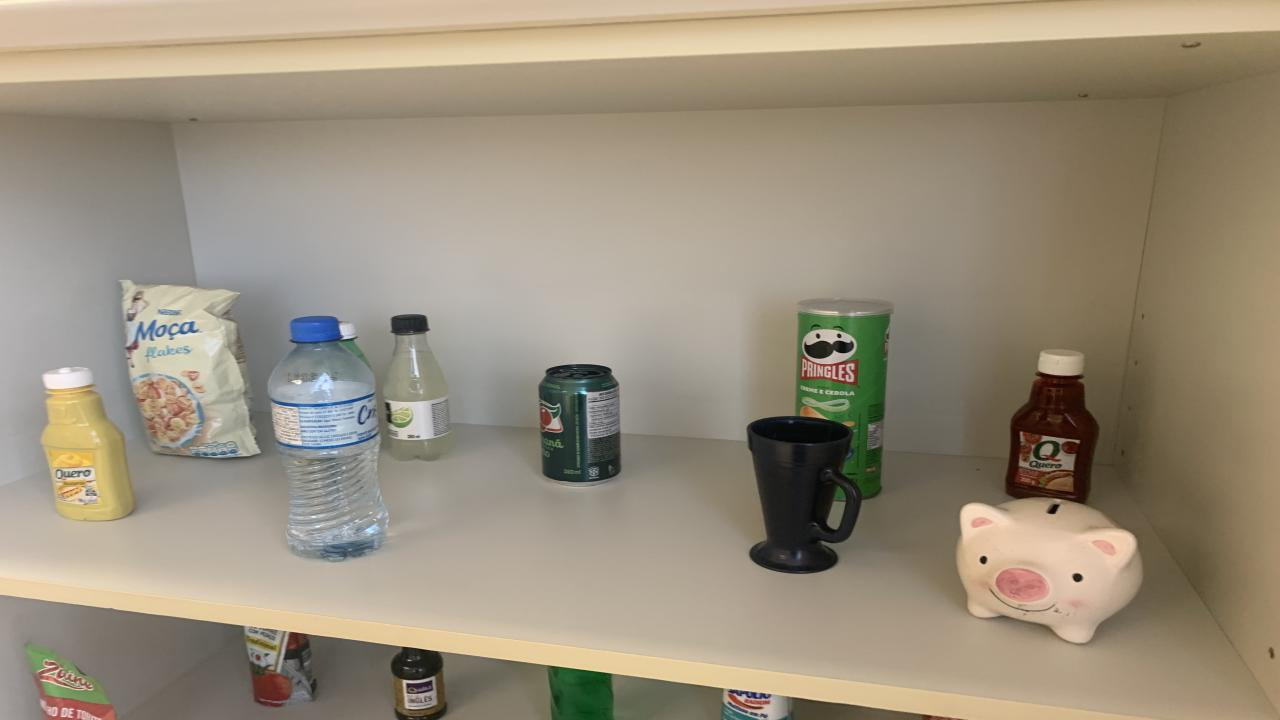Cleaner-Cleanup_Items: (722, 690, 792, 720)
Detergent-Cleanup_Items: (548, 666, 612, 720)
English_Sauce-Pantry_Items: (390, 647, 448, 720)
Flakes-Snacks: (122, 279, 260, 458)
Guarana_Can-Drinks: (540, 364, 622, 486)
Ketchup-Pantry_Items: (1005, 349, 1100, 502)
Mustard-Pantry_Items: (40, 368, 135, 521)
Pig_Safe-Miscellaneous: (955, 497, 1142, 643)
Pringles-Snacks: (795, 298, 892, 497)
Soda-Drinks: (382, 315, 455, 461)
Tomato_Sauce-Pantry_Items: (25, 643, 115, 720), (245, 626, 315, 707)
Water_Bottle-Drinks: (268, 317, 388, 559)
